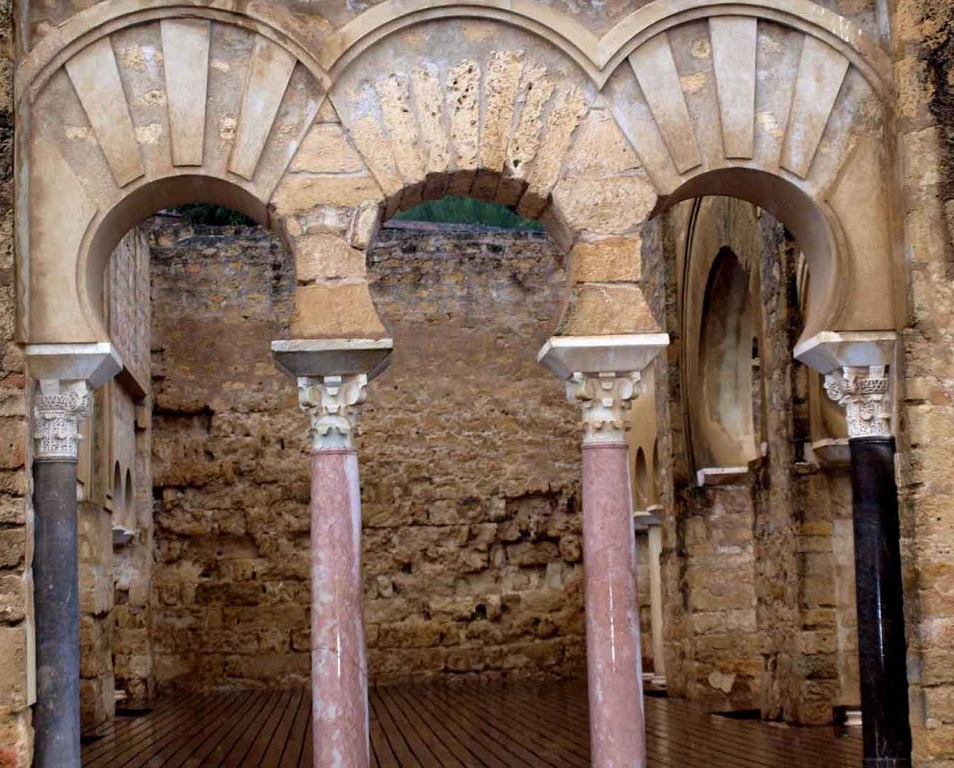arco-herradura: (60, 156, 333, 413), (333, 158, 607, 414), (608, 152, 866, 403)
